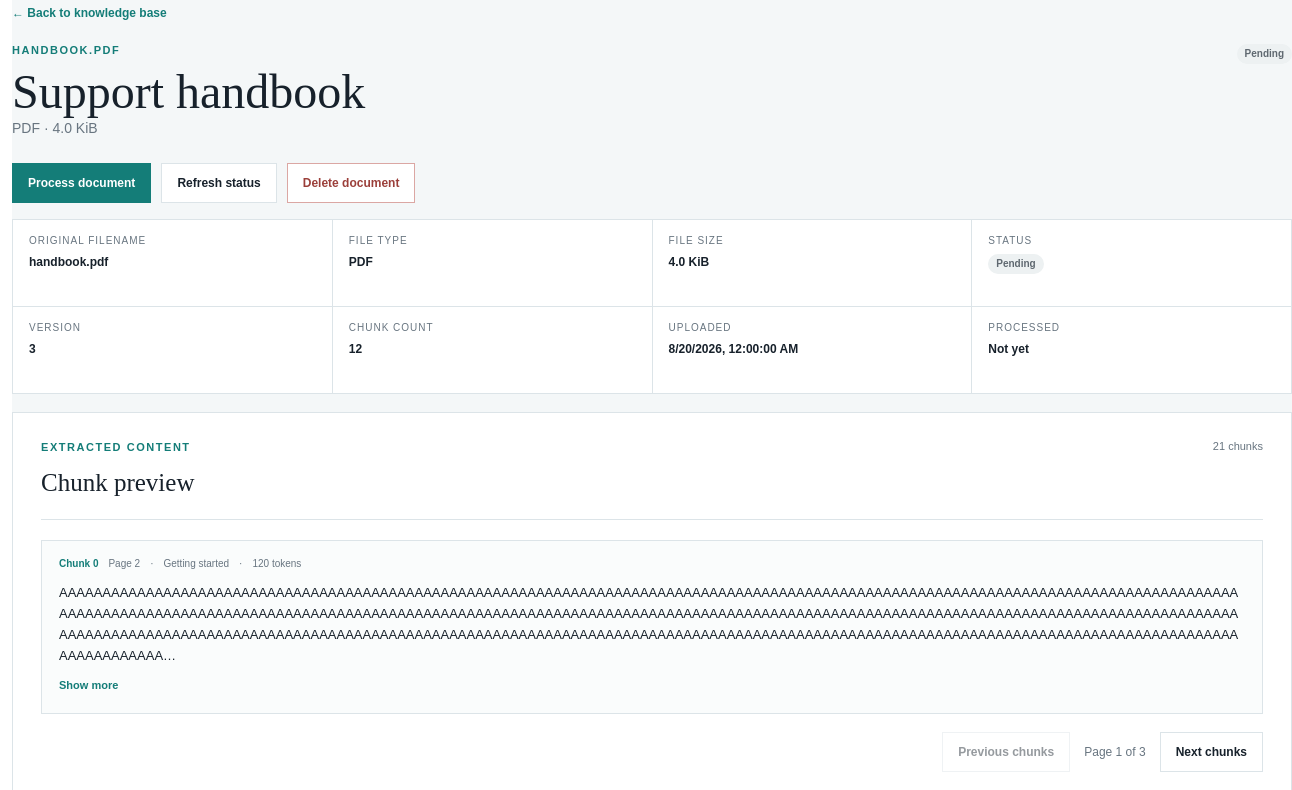
Test: DocumentDetail › processes a pending document
The image size is (1292, 790).
Click the button "Process document": (82, 183) [12,163,151,203]
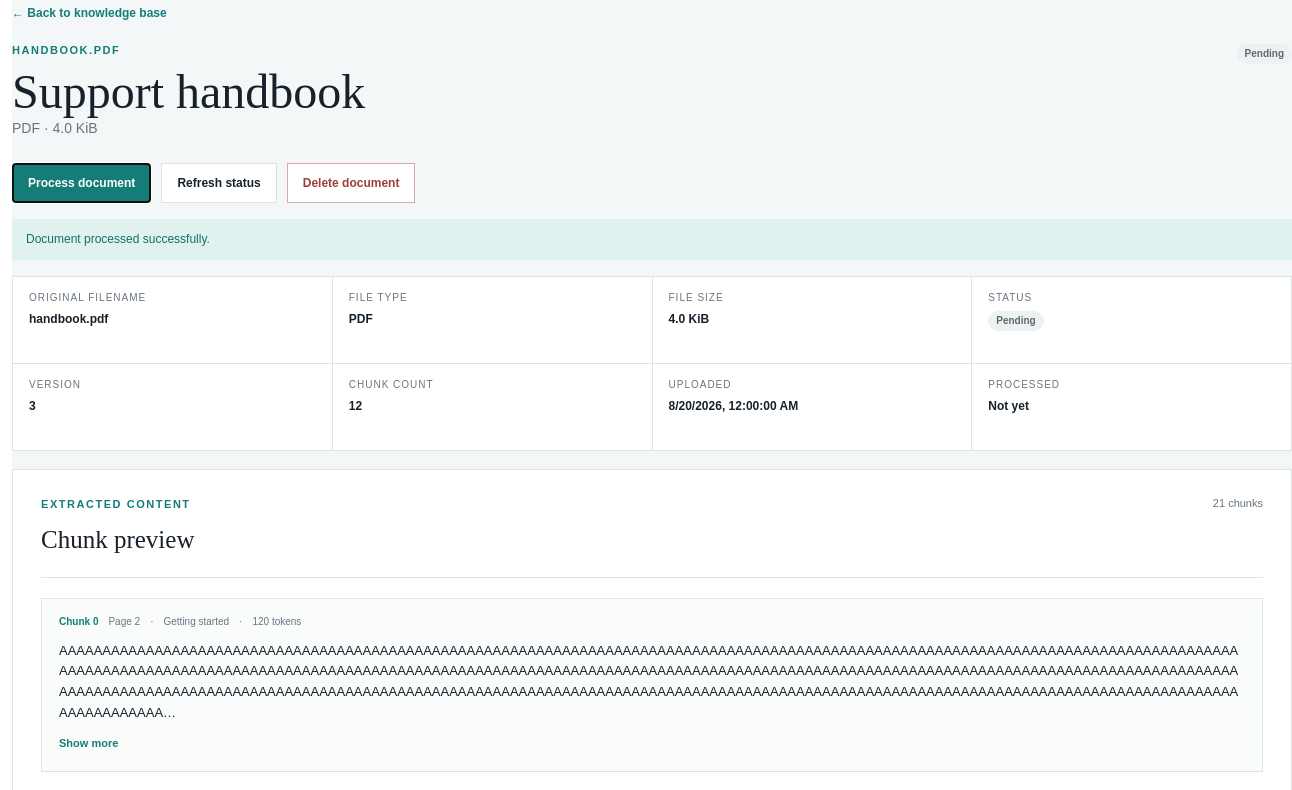
Expected: the message shows "processed successfully", [26,232,210,246]
